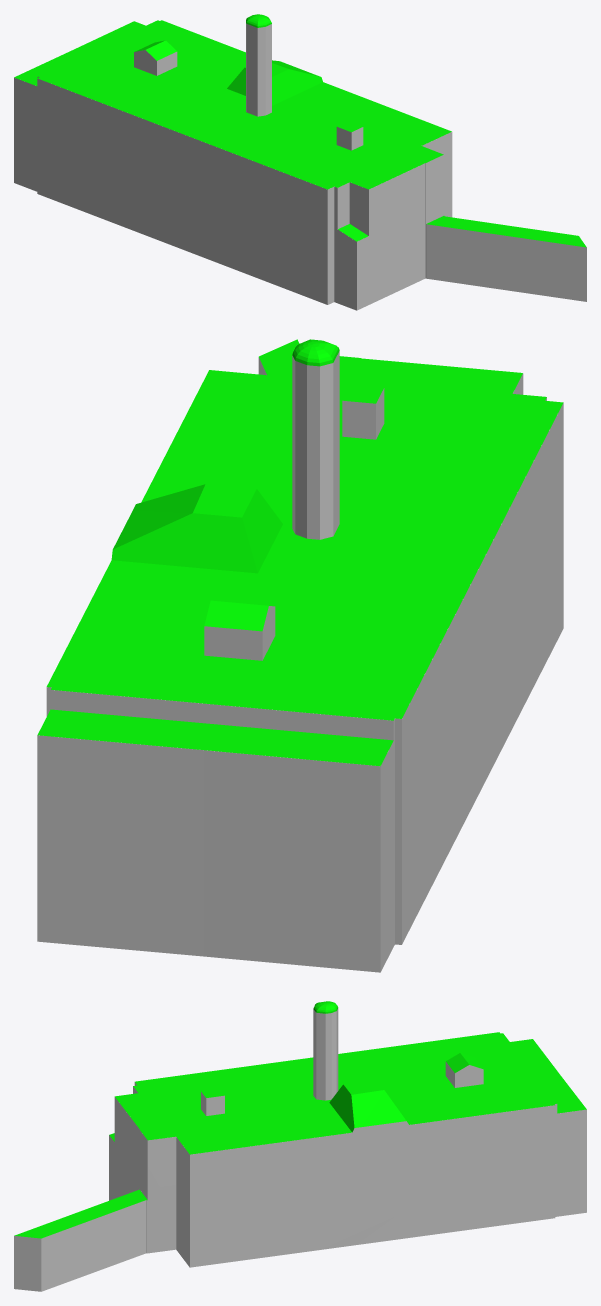
The model's file is DEHB01AL1Qi0006a.gltf.
The picture shows the model from 3 angles, top to bottom: view 1: azimuth 30°, elevation 25°; view 2: azimuth 150°, elevation 25°; view 3: azimuth 270°, elevation 25°; orthographic projection. The views are drawn at different scales.
Visible parts, largest first — view 1: Z_UP; view 2: Z_UP; view 3: Z_UP.
Boxes of the visible parts, x1,y1,x2,y2 form: Z_UP: (14, 14, 586, 310); Z_UP: (37, 339, 563, 972); Z_UP: (14, 1001, 586, 1291).
Bounding box in the file's own units: 39.23 × 25.11 × 63.46.
